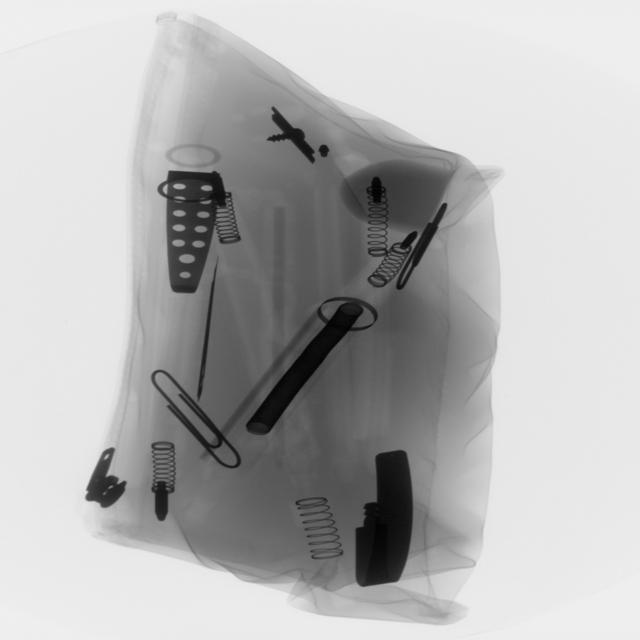knife: (159, 171, 229, 297)
pin: (146, 366, 250, 472)
